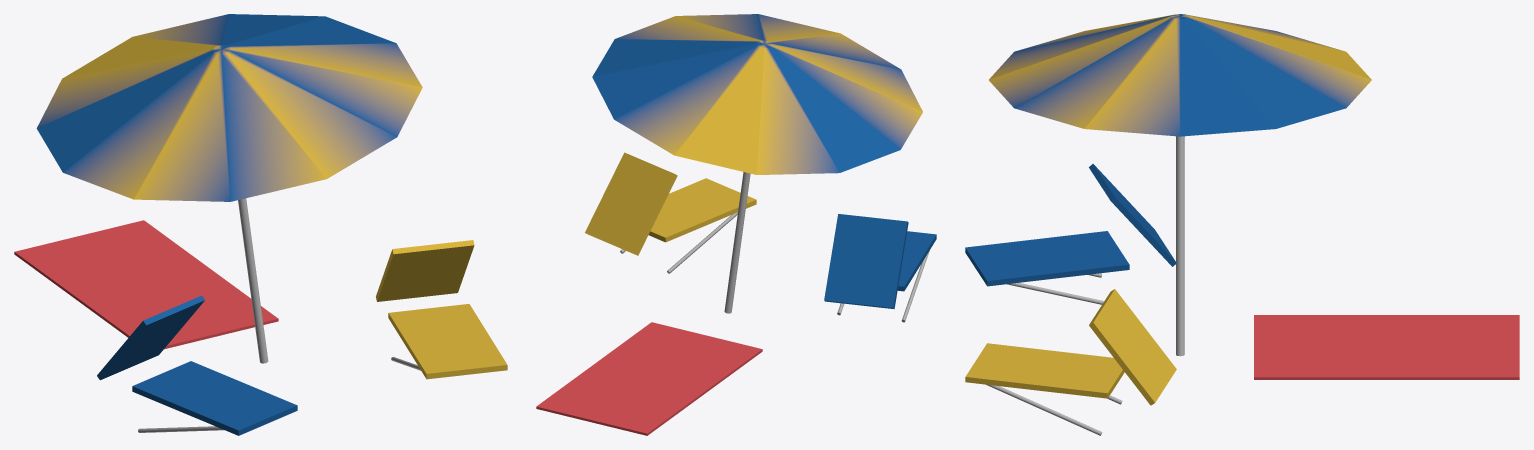
File: sombrilla_playa_amarilla.glb
3 views of the same model, side by side, from view 1: azimuth 30°, elevation 25°; view 2: azimuth 150°, elevation 25°; view 3: azimuth 270°, elevation 25° (orthographic). The views are drawn at different scales.
Parts seen in each view (by area): view 1: sombrilla_playa_amarilla_Malla; view 2: sombrilla_playa_amarilla_Malla; view 3: sombrilla_playa_amarilla_Malla.
Boxes of the visible parts, <box> form: sombrilla_playa_amarilla_Malla: <box>14,14,507,435</box>; sombrilla_playa_amarilla_Malla: <box>536,14,936,435</box>; sombrilla_playa_amarilla_Malla: <box>965,14,1519,435</box>.
Size of the model in its own units: 2.94 by 2.4 by 3.76.
